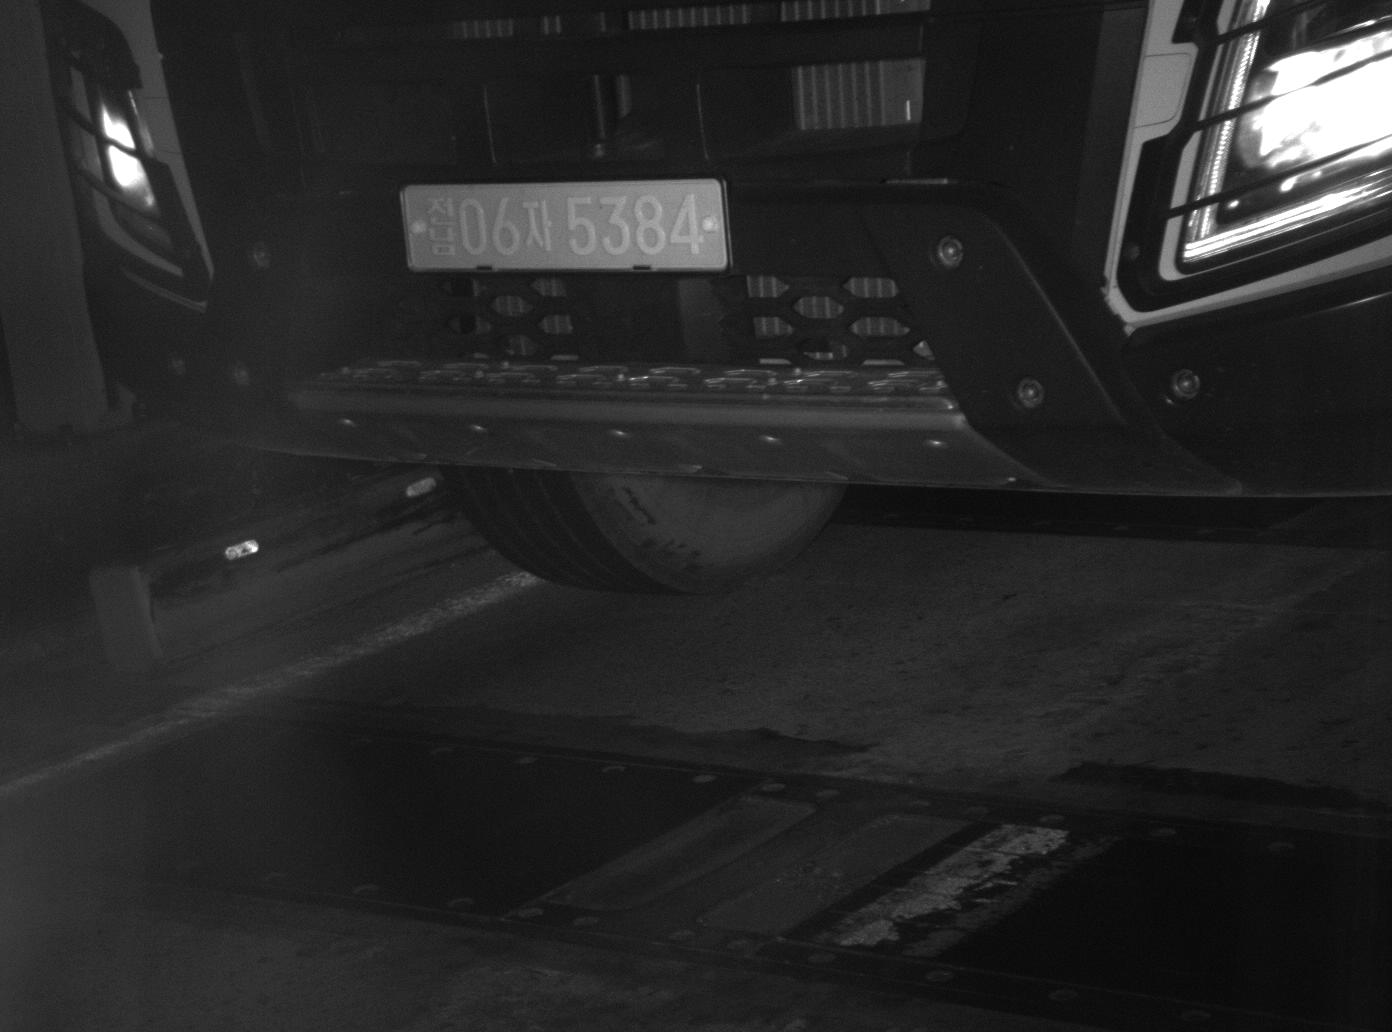car: (34, 1, 1387, 601)
plate: (399, 178, 734, 274)
